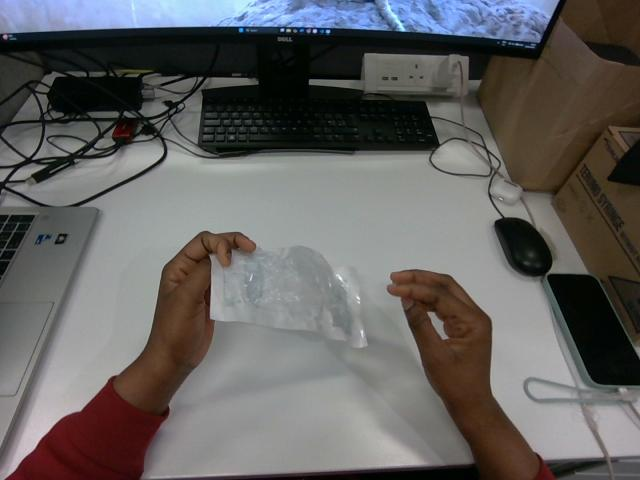gallipot: (210, 246, 366, 346)
